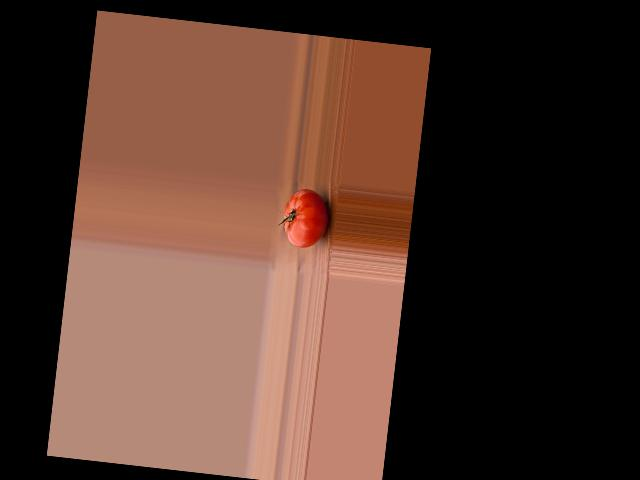tomato: (280, 187, 331, 251)
